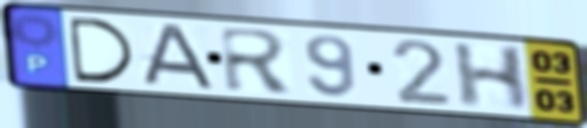2: (388, 37, 455, 107)
9: (302, 33, 357, 99)
A: (134, 23, 220, 93)
D: (64, 14, 140, 85)
H: (450, 42, 531, 113)
R: (216, 25, 299, 95)
